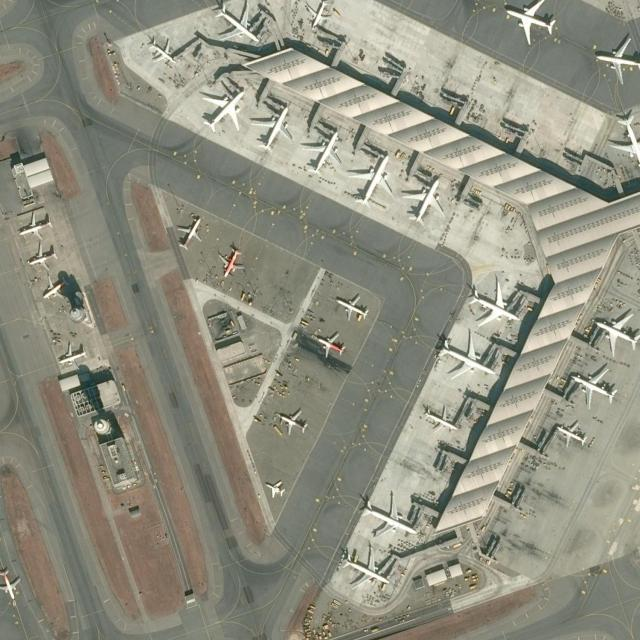Aircraft: (435, 328, 497, 378), (465, 278, 521, 329), (360, 491, 416, 539), (502, 0, 560, 46), (196, 82, 247, 133), (590, 31, 640, 82), (338, 542, 392, 588), (349, 149, 394, 203), (298, 127, 345, 178), (400, 175, 445, 228), (210, 0, 261, 45), (250, 102, 294, 154), (606, 108, 640, 173), (568, 366, 618, 408), (592, 311, 640, 353), (11, 206, 55, 238), (420, 402, 461, 434), (331, 292, 371, 323), (173, 216, 206, 250), (143, 35, 177, 67), (54, 340, 88, 370), (553, 420, 589, 448), (273, 408, 309, 436), (310, 333, 347, 359), (28, 242, 60, 272), (217, 244, 245, 278), (0, 565, 25, 603), (39, 275, 70, 303), (306, 0, 332, 27), (260, 475, 286, 499)
